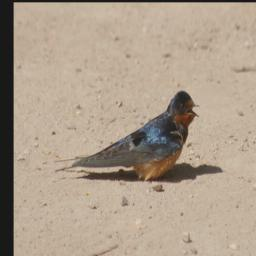Swallow: (54, 89, 199, 178)
